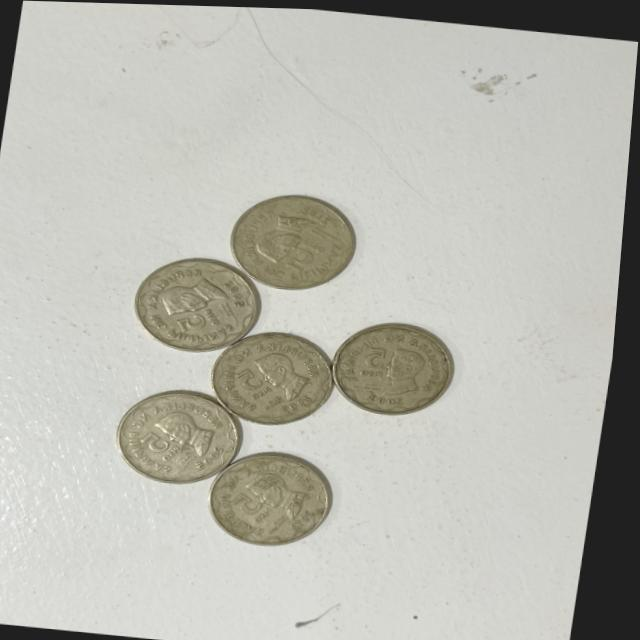5_Old_Front: (167, 294, 230, 344), (281, 229, 335, 274), (354, 338, 402, 382), (234, 486, 285, 524), (148, 424, 198, 462), (236, 364, 280, 398)
